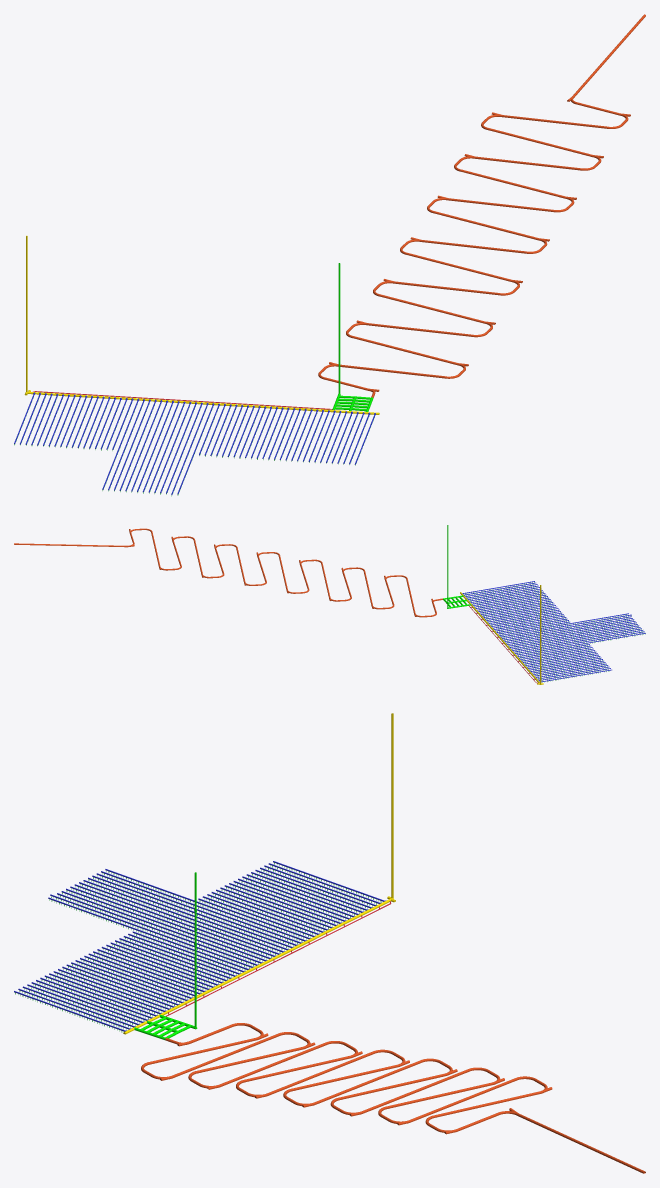
File: Tunnel.glb
The picture shows the model from 3 angles, top to bottom: view 1: azimuth 30°, elevation 25°; view 2: azimuth 150°, elevation 25°; view 3: azimuth 270°, elevation 25°; orthographic projection. The views are drawn at different scales.
Visible parts, largest first — view 1: 処分坑道, アクセス斜坑, 処分孔, 連絡坑道＋排気立坑, 坑底施設＋給気立坑; view 2: 処分坑道, 処分孔, アクセス斜坑, 連絡坑道＋排気立坑, 坑底施設＋給気立坑; view 3: 処分坑道, アクセス斜坑, 処分孔, 連絡坑道＋排気立坑, 坑底施設＋給気立坑.
Boxes of the visible parts, x1,y1,x2,y2 form: 処分坑道: [14, 392, 375, 494]; アクセス斜坑: [318, 14, 645, 397]; 処分孔: [14, 396, 374, 496]; 連絡坑道＋排気立坑: [24, 235, 379, 414]; 坑底施設＋給気立坑: [332, 263, 373, 411]; 処分坑道: [462, 581, 645, 682]; 処分孔: [463, 582, 645, 682]; アクセス斜坑: [14, 528, 442, 617]; 連絡坑道＋排気立坑: [460, 585, 543, 684]; 坑底施設＋給気立坑: [443, 525, 470, 608]; 処分坑道: [14, 861, 385, 1031]; アクセス斜坑: [141, 1023, 645, 1173]; 処分孔: [15, 863, 381, 1032]; 連絡坑道＋排気立坑: [123, 713, 395, 1034]; 坑底施設＋給気立坑: [134, 872, 197, 1039].
Bounding box in the file's own units: 4043 × 778 × 2372.
